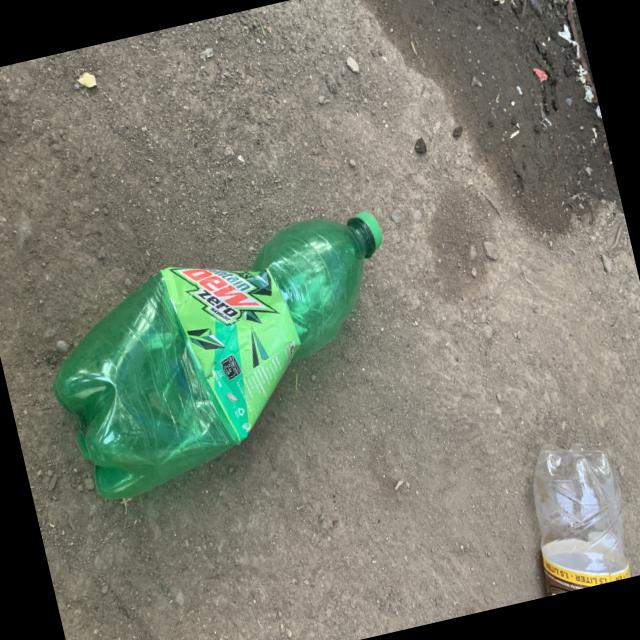Bottle: (53, 210, 382, 498)
